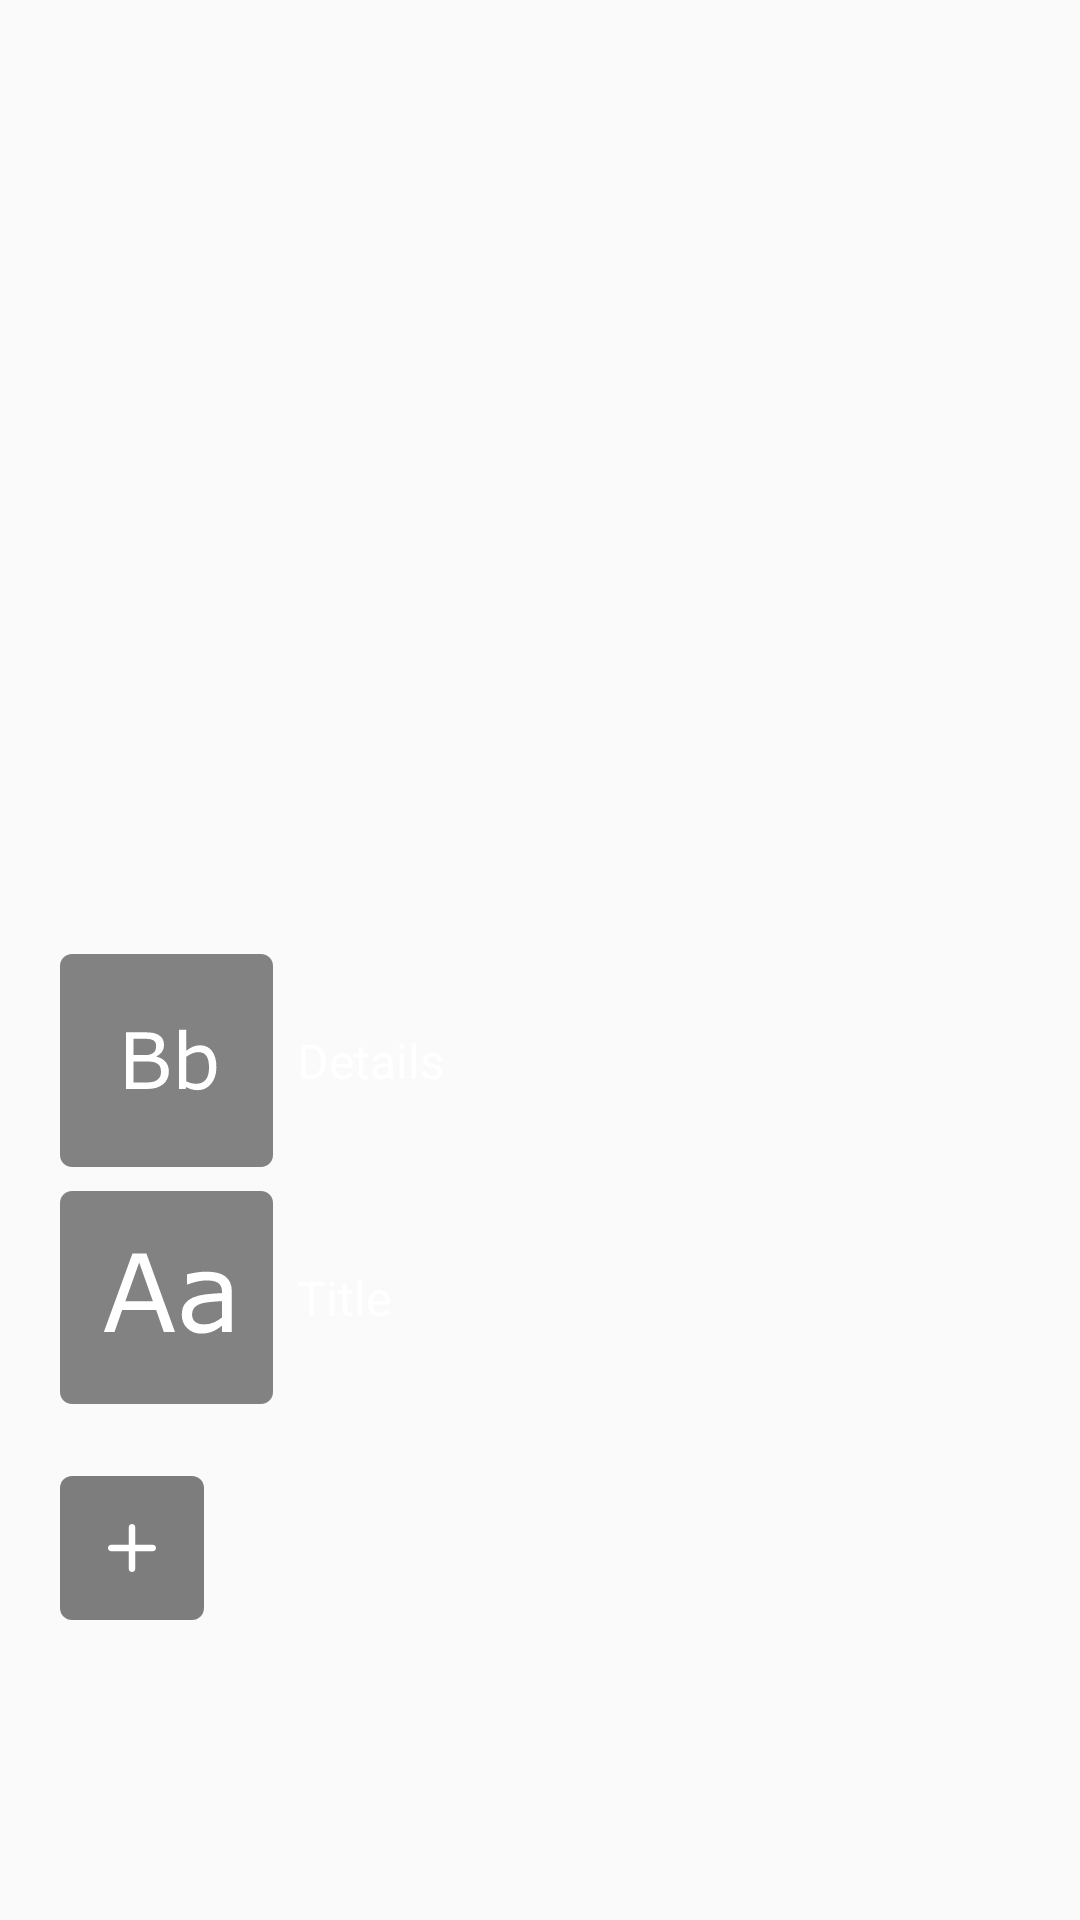

Screen size 1080 x 1920. Icon name, then its center in pixels as point (x, y):
add: point (132, 1548)
